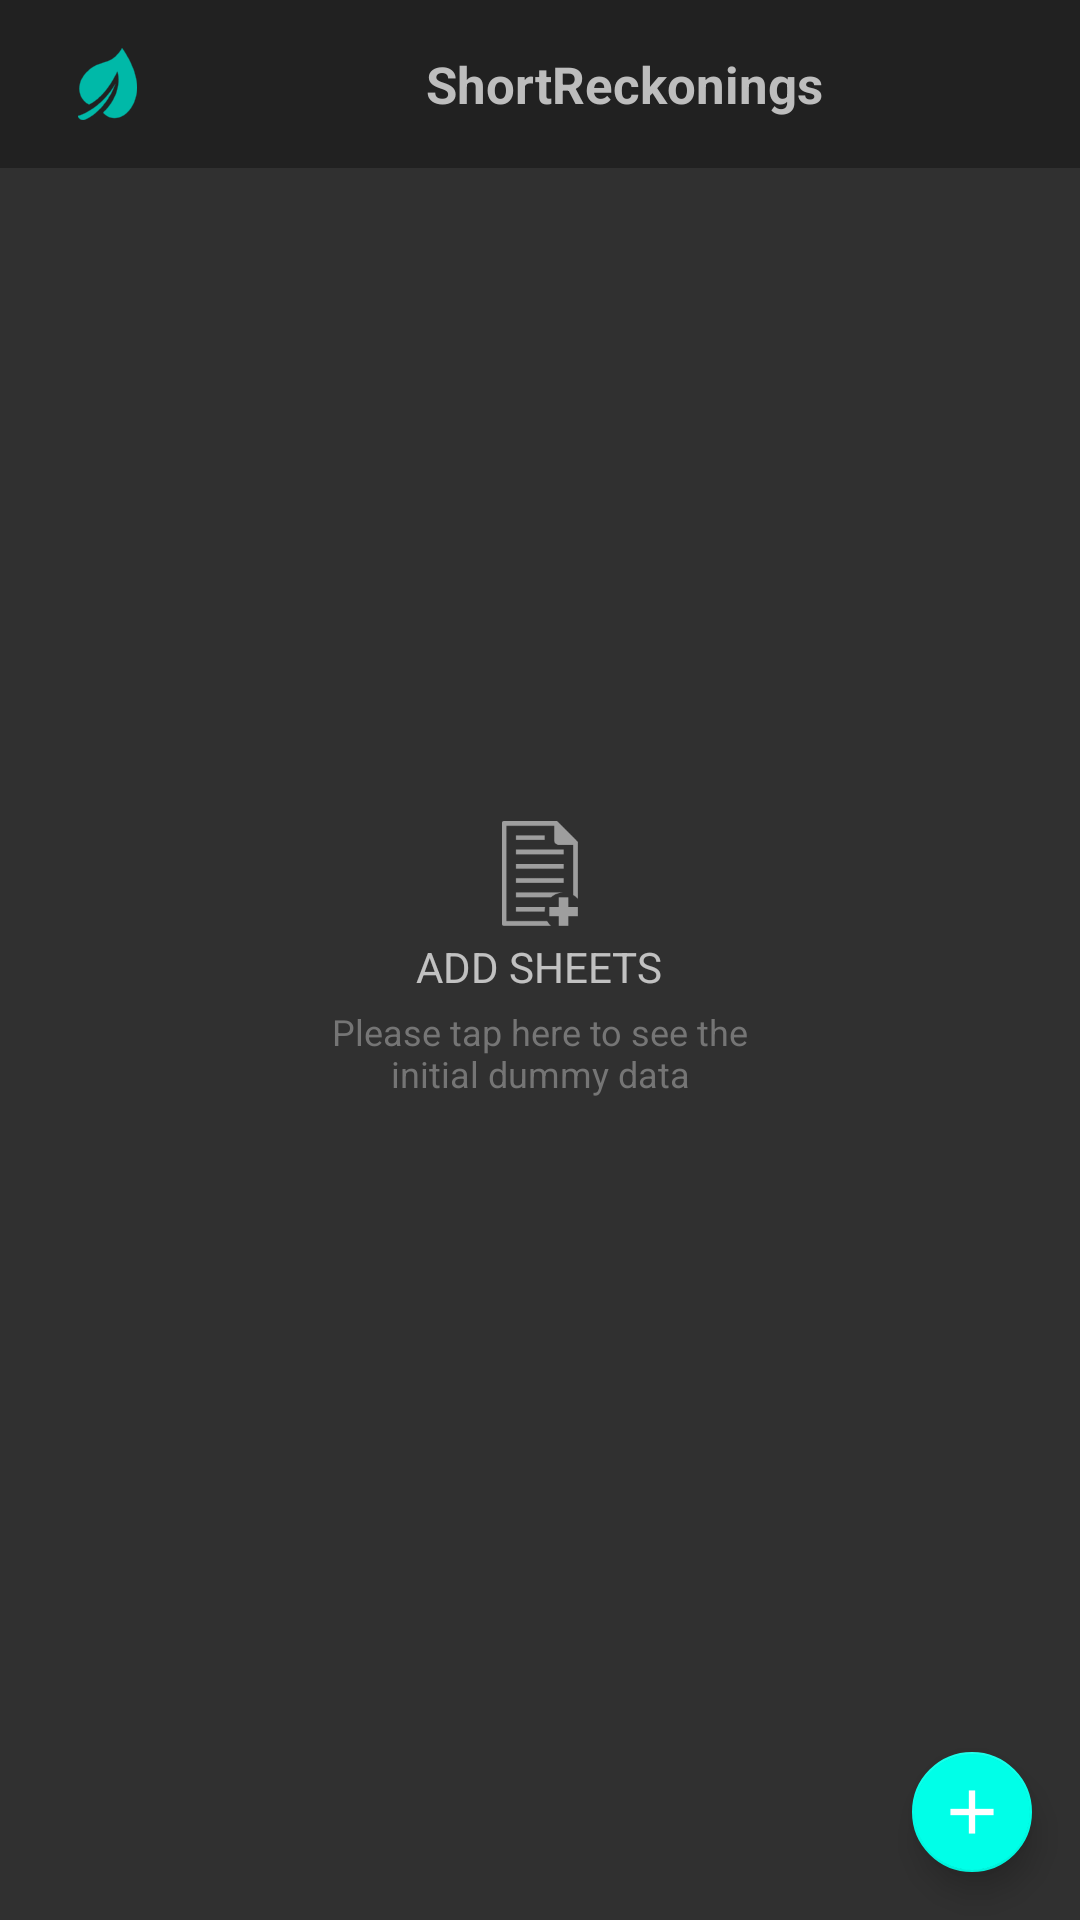

Icon bounding boxes for this 1080 × 1920 phone screenshot, format [x1=x1, y1=y1, x2=x2, y2=y2]:
add: [x1=912, y1=1752, x2=1032, y2=1872]
